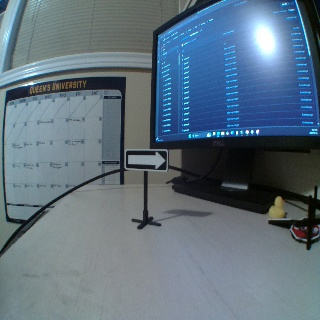sign_oneway_right: (123, 147, 167, 171)
